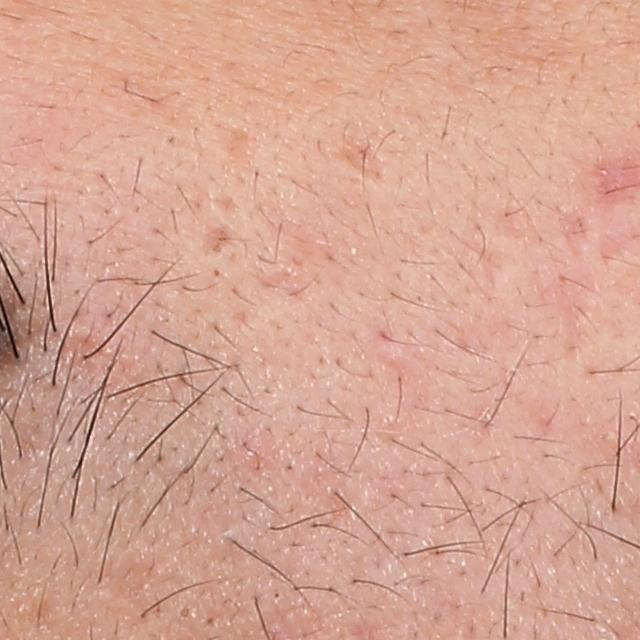atrophic_scar: (340, 133, 387, 185), (221, 127, 259, 175), (555, 207, 591, 256), (205, 226, 237, 256)
comedo: (176, 603, 191, 623)
